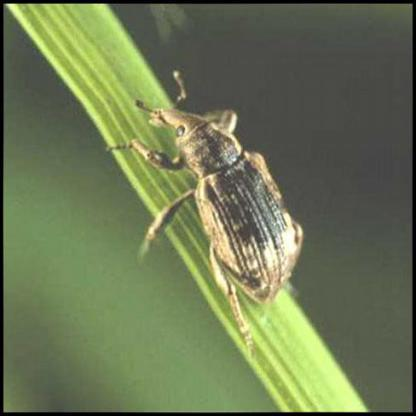rice-bug: (132, 75, 312, 307)
